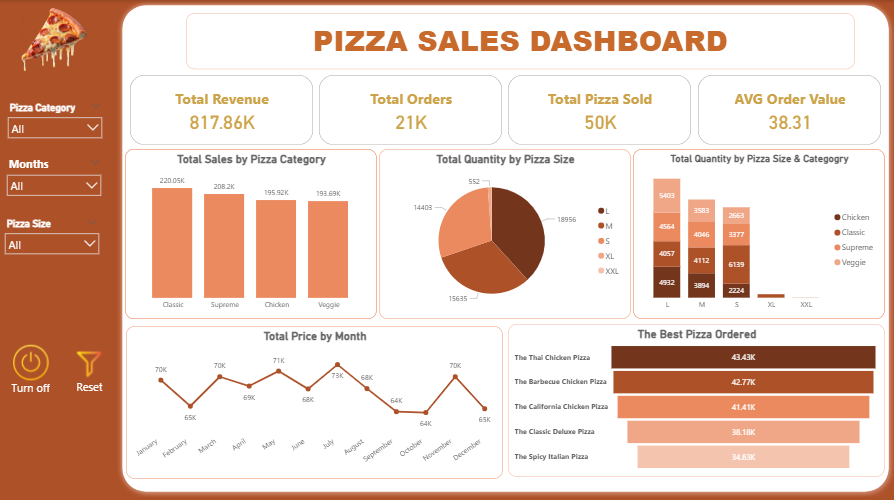

The page's visual inventory and layout, read from the dashboard file:
{"tool":"powerbi","page":{"name":"Dashboard","canvas":[1510,844],"ordinal":1},"visuals":[{"type":"shape","box":[199.2,0,1311.6,838.9],"z":0,"group":"g5"},{"type":"group","id":"g1","title":"Group 2","box":[0.1,167.5,183.5,279.2],"z":1000},{"type":"slicer","fields":{"Values":["Data Model - Pizza Sales.pizza_category"]},"box":[4.9,167.5,178.6,84.1],"z":1000,"group":"g2"},{"type":"lineChart","title":"Total Price by Month","fields":{"Category":["Data Model - Pizza Sales.order_date.Variation.Date Hierarchy.Month"],"Y":["Sum(Data Model - Pizza Sales.total_price)"]},"box":[214.1,550.2,636.4,258.3],"z":1000,"group":"g5"},{"type":"slicer","fields":{"Values":["Data Model - Pizza Sales.pizza_size"]},"box":[0.1,362.6,178.6,84.1],"z":2000,"group":"g2"},{"type":"funnel","title":"The Best Pizza Ordered","fields":{"Category":["Data Model - Pizza Sales.pizza_name"],"Y":["Sum(Data Model - Pizza Sales.total_price)"]},"box":[858.9,546.8,636.4,258.3],"z":2000,"group":"g5"},{"type":"textbox","box":[315.7,21.9,1129.3,94.5],"z":3000,"group":"g5"},{"type":"pieChart","title":"Total Quantity by Pizza Size","fields":{"Y":["Sum(Data Model - Pizza Sales.quantity)"],"Category":["Data Model - Pizza Sales.pizza_size"]},"box":[641.5,251.9,425.4,287],"z":3000,"group":"g3"},{"type":"slicer","title":"Order Date","fields":{"Values":["Data Model - Pizza Sales.Months"]},"box":[3.1,259.1,178.6,84.1],"z":3000,"group":"g2"},{"type":"group","id":"g2","title":"Group 1","box":[0.1,167.5,183.5,279.2],"z":3001,"group":"g1"},{"type":"group","id":"g3","title":"Group 5","box":[212.7,251.9,1282.9,287],"z":4000,"group":"g5"},{"type":"columnChart","title":"Total Sales by Pizza Category","fields":{"Category":["Data Model - Pizza Sales.pizza_category"],"Y":["Sum(Data Model - Pizza Sales.total_price)"]},"box":[212.7,251.9,425.4,287],"z":4000,"group":"g3"},{"type":"group","id":"g4","title":"Group 4","box":[215.8,121.5,1277.8,128.3],"z":5000,"group":"g5"},{"type":"columnChart","title":"Total Quantity by Pizza Size & Categogry","fields":{"Series":["Data Model - Pizza Sales.pizza_category"],"Y":["Sum(Data Model - Pizza Sales.quantity)"],"Category":["Data Model - Pizza Sales.pizza_size"]},"box":[1070.2,251.9,425.4,287],"z":5000,"group":"g3"},{"type":"actionButton","box":[6.1,574.1,93.1,100.8],"z":6000},{"type":"image","box":[18.3,4.6,149.6,126.7],"z":7000},{"type":"actionButton","box":[103,584,99.6,86.1],"z":8000},{"type":"cardVisual","fields":{"Data":["Data Model - Pizza Sales.Total Revenue"]},"box":[215.8,121.5,319.5,128.3],"z":9000,"group":"g4"},{"type":"cardVisual","fields":{"Data":["Data Model - Pizza Sales.Total Orders"]},"box":[535.3,121.5,319.5,128.3],"z":10000,"group":"g4"},{"type":"cardVisual","fields":{"Data":["Data Model - Pizza Sales.Total Pizza Sold"]},"box":[854.7,121.5,319.5,128.3],"z":11000,"group":"g4"},{"type":"cardVisual","fields":{"Data":["Data Model - Pizza Sales.AVG Order Value"]},"box":[1174.2,121.5,319.5,128.3],"z":12000,"group":"g4"},{"type":"group","id":"g5","title":"Group 3","box":[199.2,0,1311.6,838.9],"z":14001}]}

Visuals, with their boxes in screenshot pixels (x1, y1, x2, y2), scaled from the page's 1510x844 canvas onto the 894x500 screenshot:
shape: {"x1": 118, "y1": 0, "x2": 893, "y2": 497}
"Group 2" group: {"x1": 0, "y1": 99, "x2": 109, "y2": 265}
slicer - Data Model - Pizza Sales.pizza_category: {"x1": 3, "y1": 99, "x2": 109, "y2": 149}
"Total Price by Month" lineChart: {"x1": 127, "y1": 326, "x2": 504, "y2": 479}
slicer - Data Model - Pizza Sales.pizza_size: {"x1": 0, "y1": 215, "x2": 106, "y2": 265}
"The Best Pizza Ordered" funnel: {"x1": 509, "y1": 324, "x2": 885, "y2": 477}
textbox: {"x1": 187, "y1": 13, "x2": 856, "y2": 69}
"Total Quantity by Pizza Size" pieChart: {"x1": 380, "y1": 149, "x2": 632, "y2": 319}
"Order Date" slicer: {"x1": 2, "y1": 153, "x2": 108, "y2": 203}
"Group 1" group: {"x1": 0, "y1": 99, "x2": 109, "y2": 265}
"Group 5" group: {"x1": 126, "y1": 149, "x2": 885, "y2": 319}
"Total Sales by Pizza Category" columnChart: {"x1": 126, "y1": 149, "x2": 378, "y2": 319}
"Group 4" group: {"x1": 128, "y1": 72, "x2": 884, "y2": 148}
"Total Quantity by Pizza Size & Categogry" columnChart: {"x1": 634, "y1": 149, "x2": 885, "y2": 319}
actionButton: {"x1": 4, "y1": 340, "x2": 59, "y2": 400}
image: {"x1": 11, "y1": 3, "x2": 99, "y2": 78}
actionButton: {"x1": 61, "y1": 346, "x2": 120, "y2": 397}
cardVisual - Data Model - Pizza Sales.Total Revenue: {"x1": 128, "y1": 72, "x2": 317, "y2": 148}
cardVisual - Data Model - Pizza Sales.Total Orders: {"x1": 317, "y1": 72, "x2": 506, "y2": 148}
cardVisual - Data Model - Pizza Sales.Total Pizza Sold: {"x1": 506, "y1": 72, "x2": 695, "y2": 148}
cardVisual - Data Model - Pizza Sales.AVG Order Value: {"x1": 695, "y1": 72, "x2": 884, "y2": 148}
"Group 3" group: {"x1": 118, "y1": 0, "x2": 893, "y2": 497}
